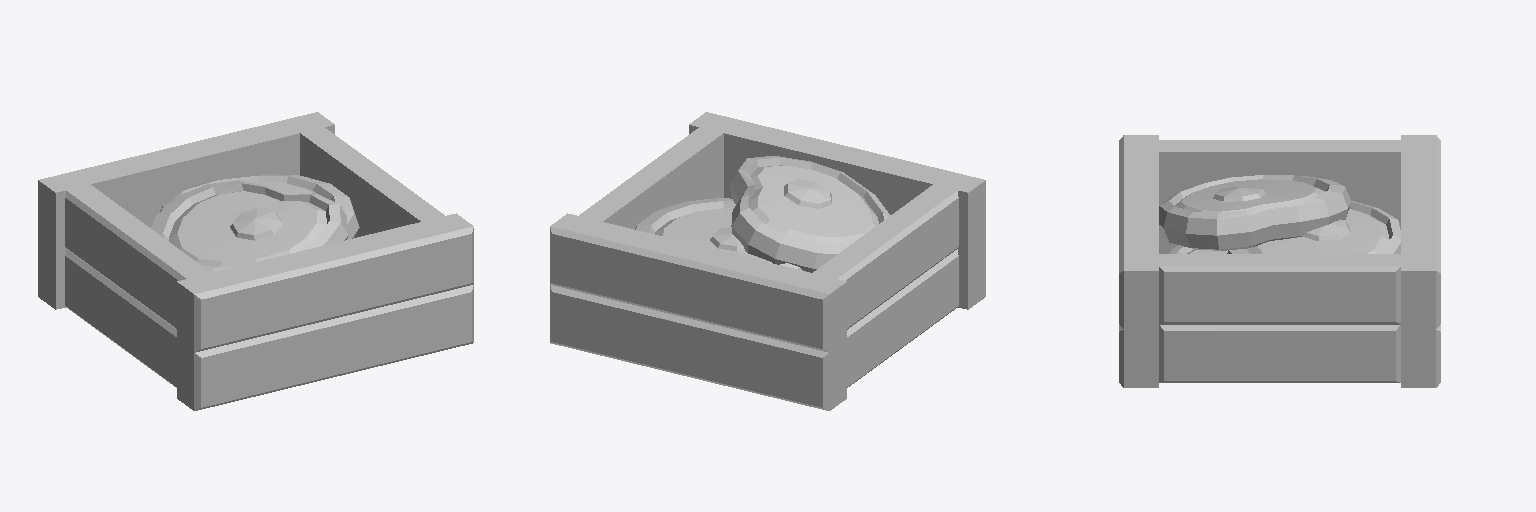
File: crate_steak.obj
The picture shows the model from 3 angles: view 1: azimuth 30°, elevation 25°; view 2: azimuth 150°, elevation 25°; view 3: azimuth 270°, elevation 25°; orthographic projection.
Parts seen in each view (by area): view 1: crate_steak_Cube.235; view 2: crate_steak_Cube.235; view 3: crate_steak_Cube.235.
Part boxes in pixels (x1,y1,x2,y2): crate_steak_Cube.235: (38, 112, 473, 410); crate_steak_Cube.235: (550, 112, 985, 410); crate_steak_Cube.235: (1119, 135, 1440, 387).
Bounding box in the file's own units: 2 × 0.8769 × 2.